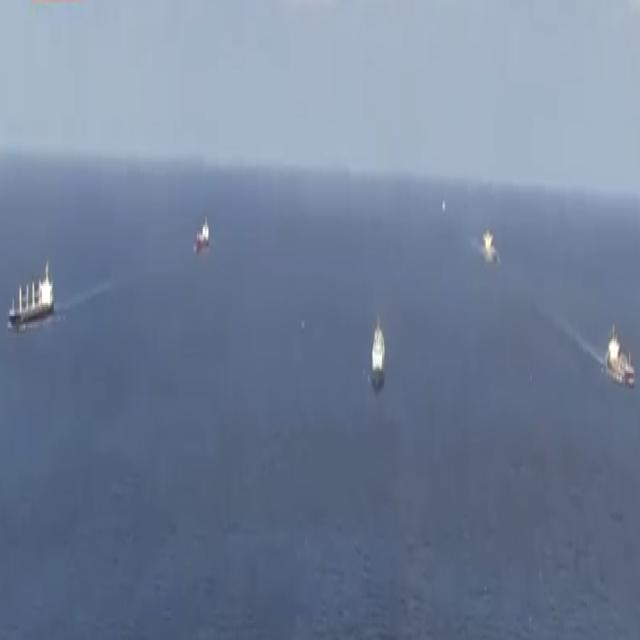cargoship: (7, 254, 53, 342), (602, 324, 634, 394), (368, 314, 386, 390), (193, 207, 213, 260), (480, 224, 500, 272)
